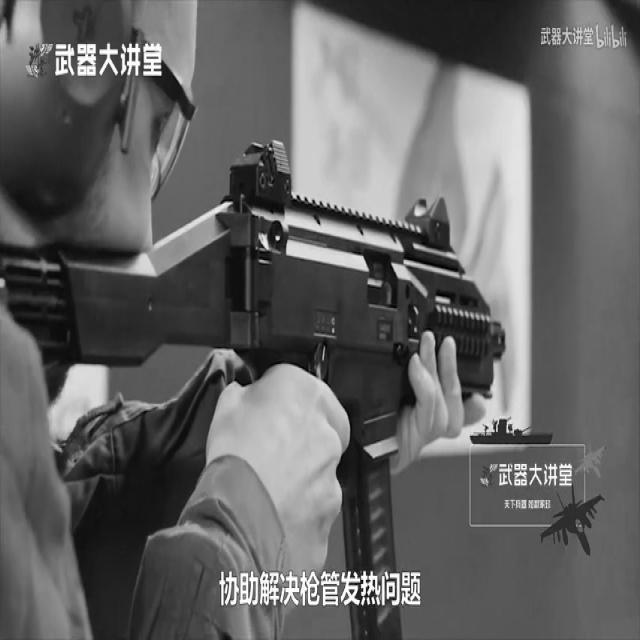Sub-machine-gun: (32, 119, 542, 530)
